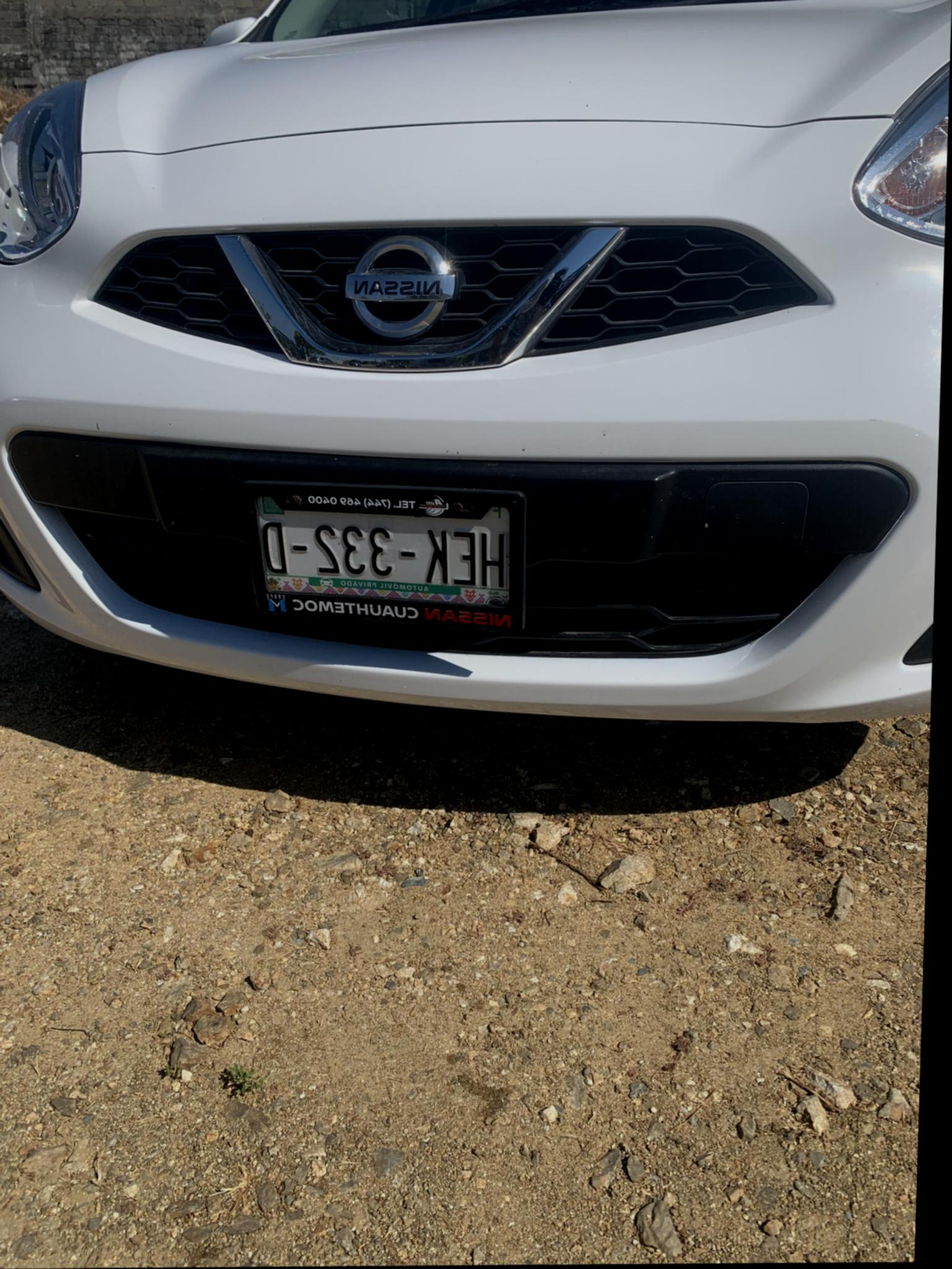License_Plate: (230, 474, 558, 650)
